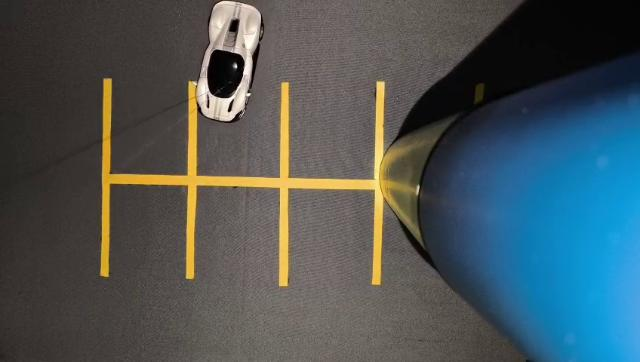toy_car: (181, 0, 293, 135)
